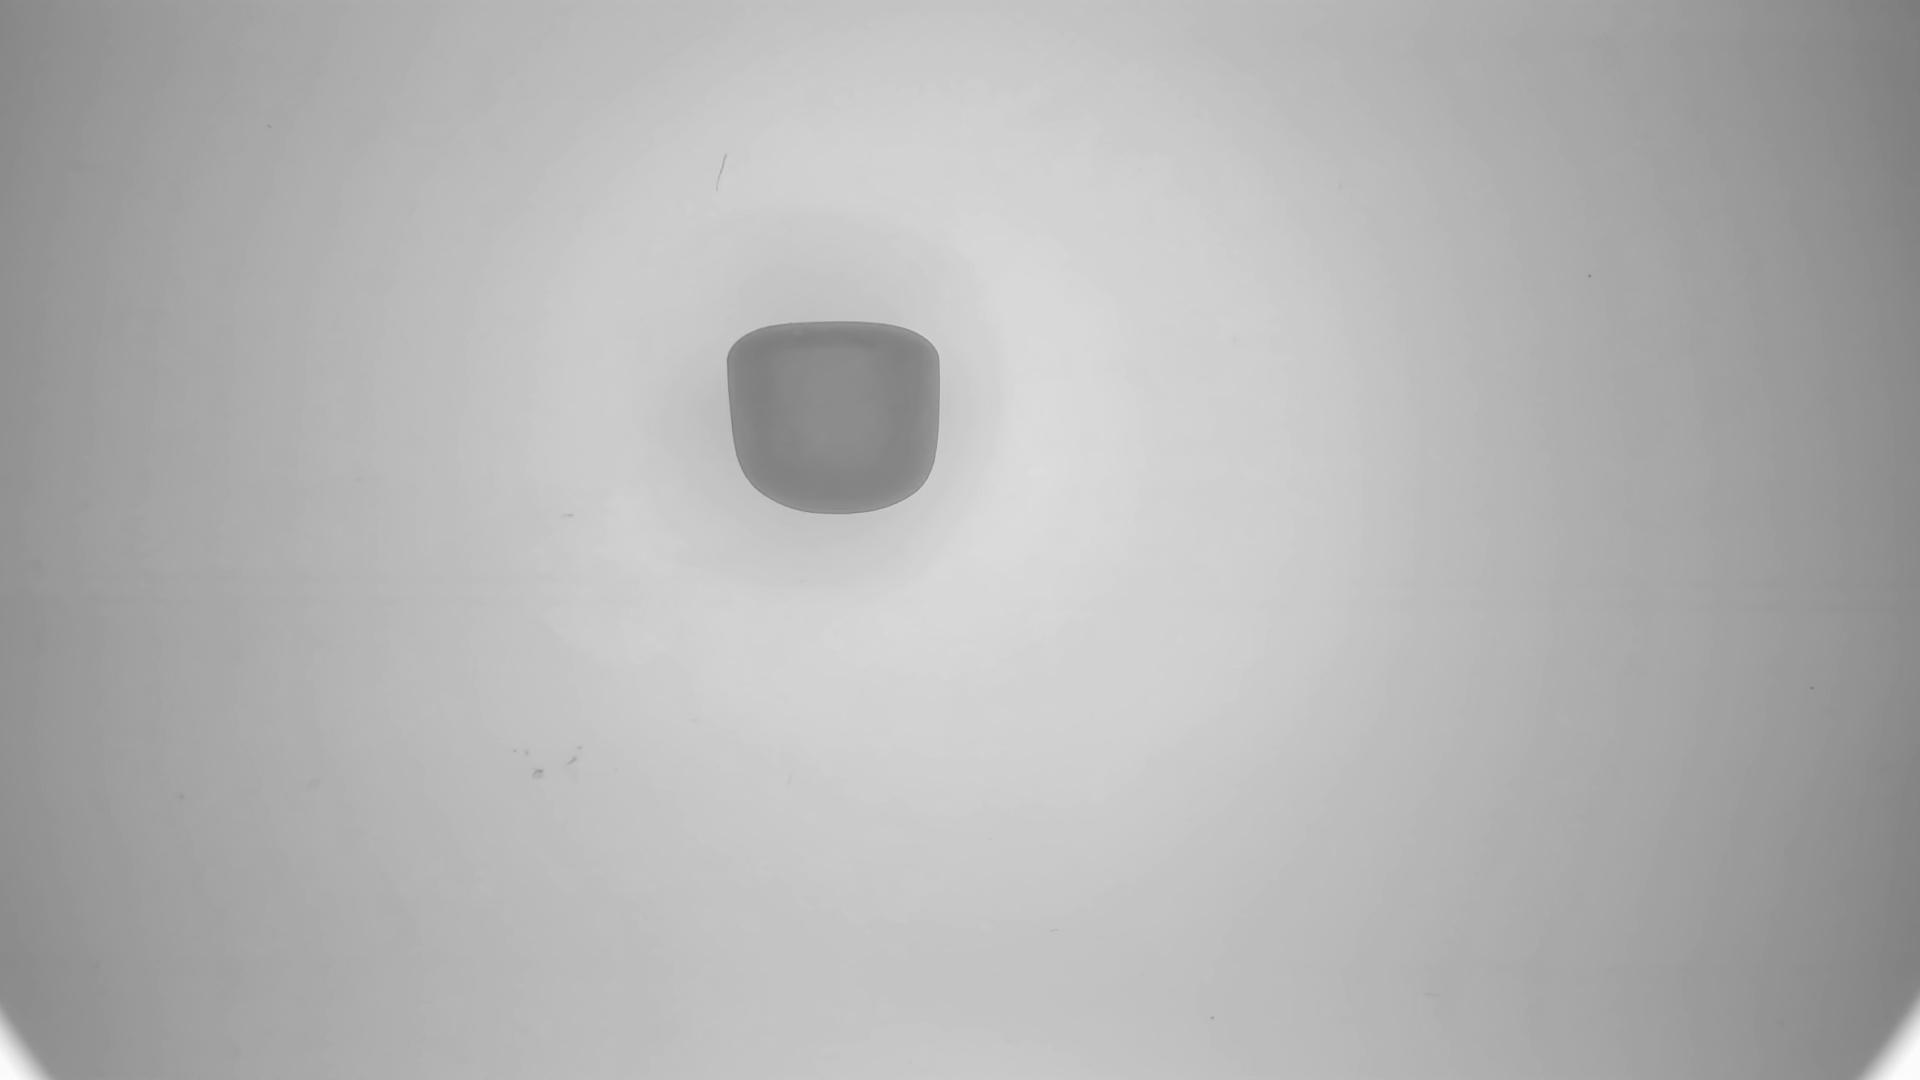normal: (727, 318, 945, 518)
